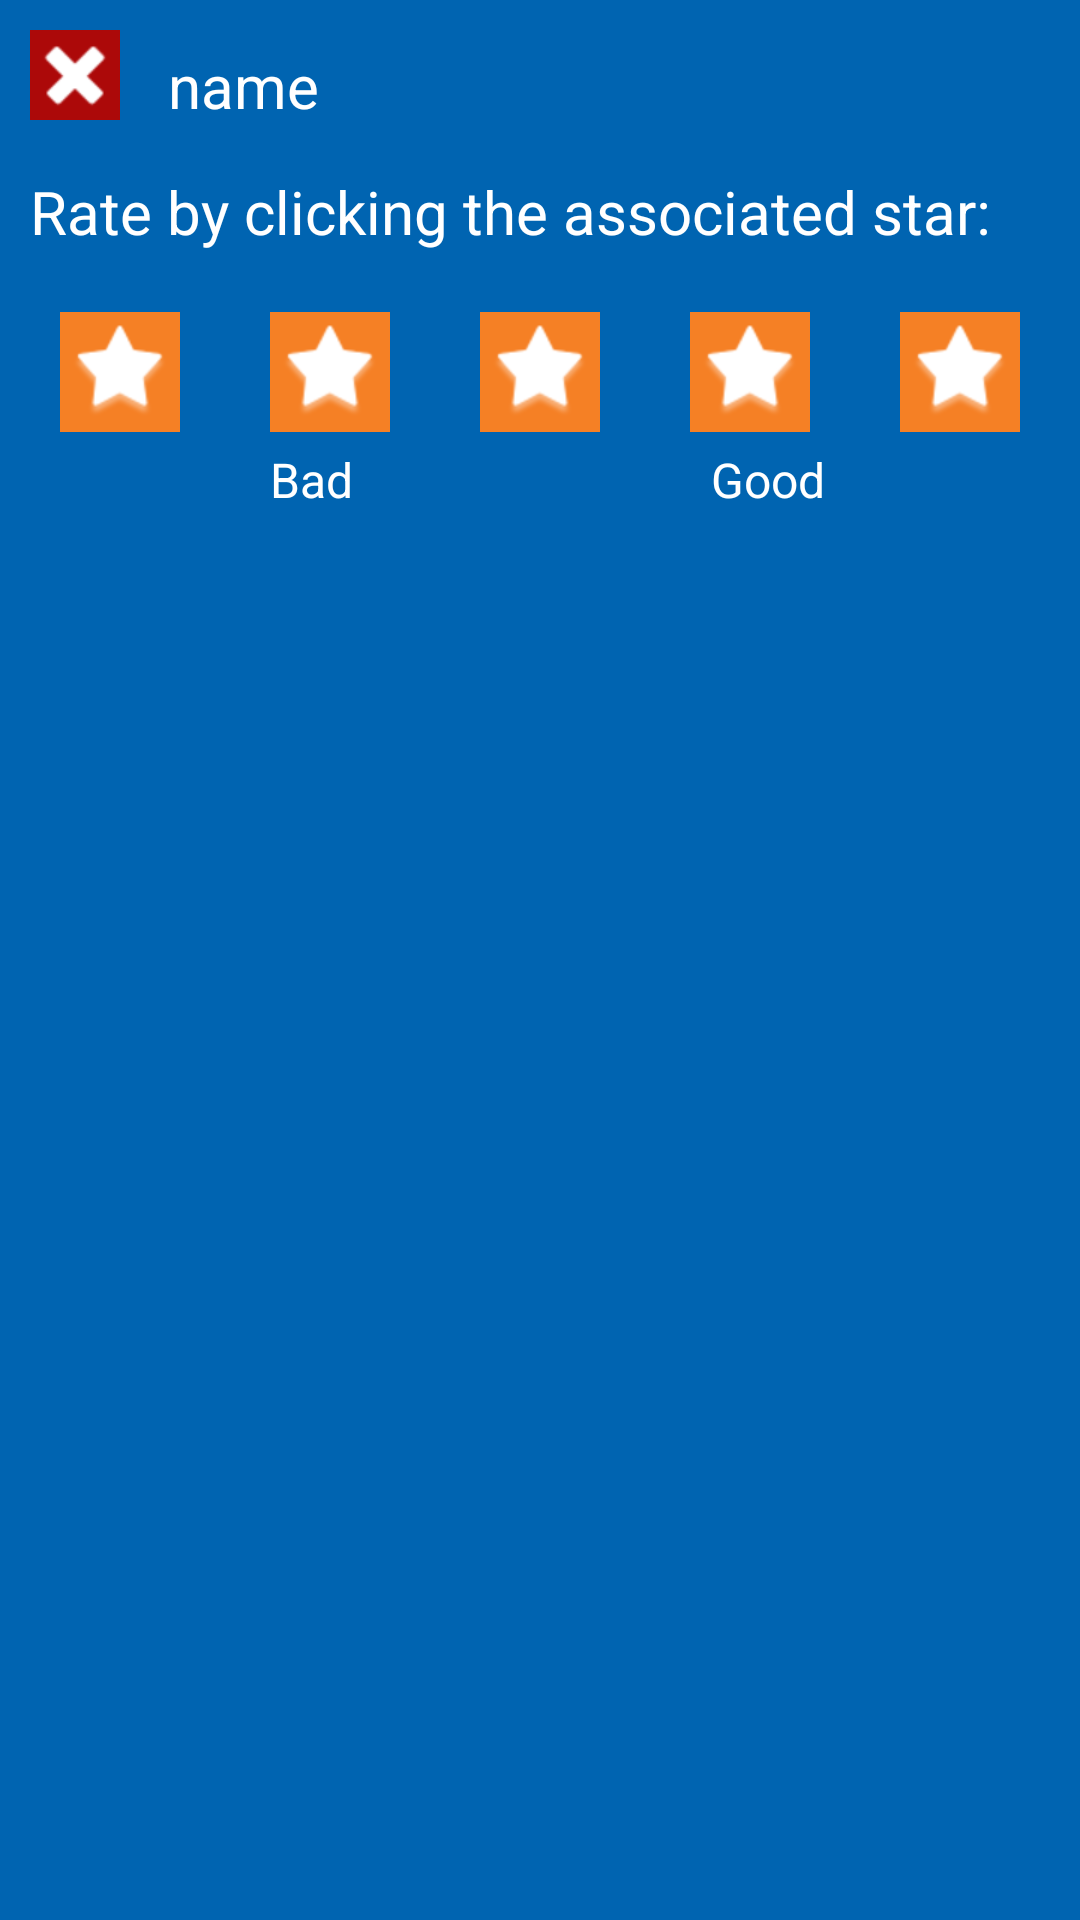

Screen size 1080×1920. Icon name, then its center in pixels as (x,y):
delete: (75,75)
star on: (120,372), (330,372), (540,372), (750,372), (960,372)
